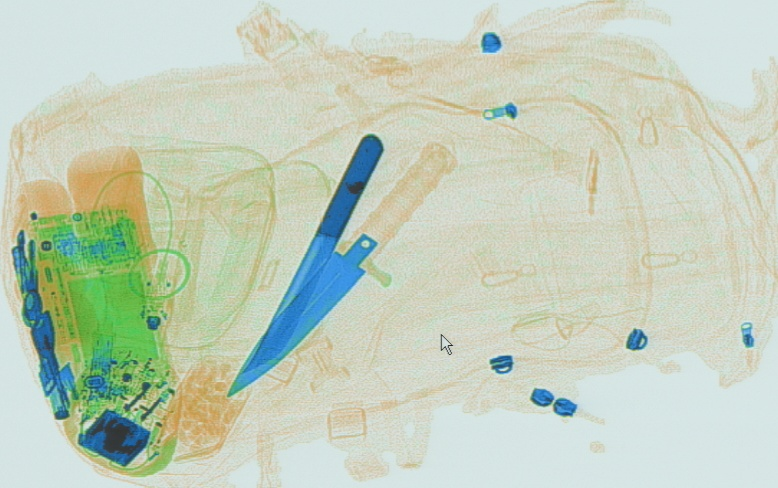knife: (225, 138, 456, 398), (244, 131, 384, 376)
